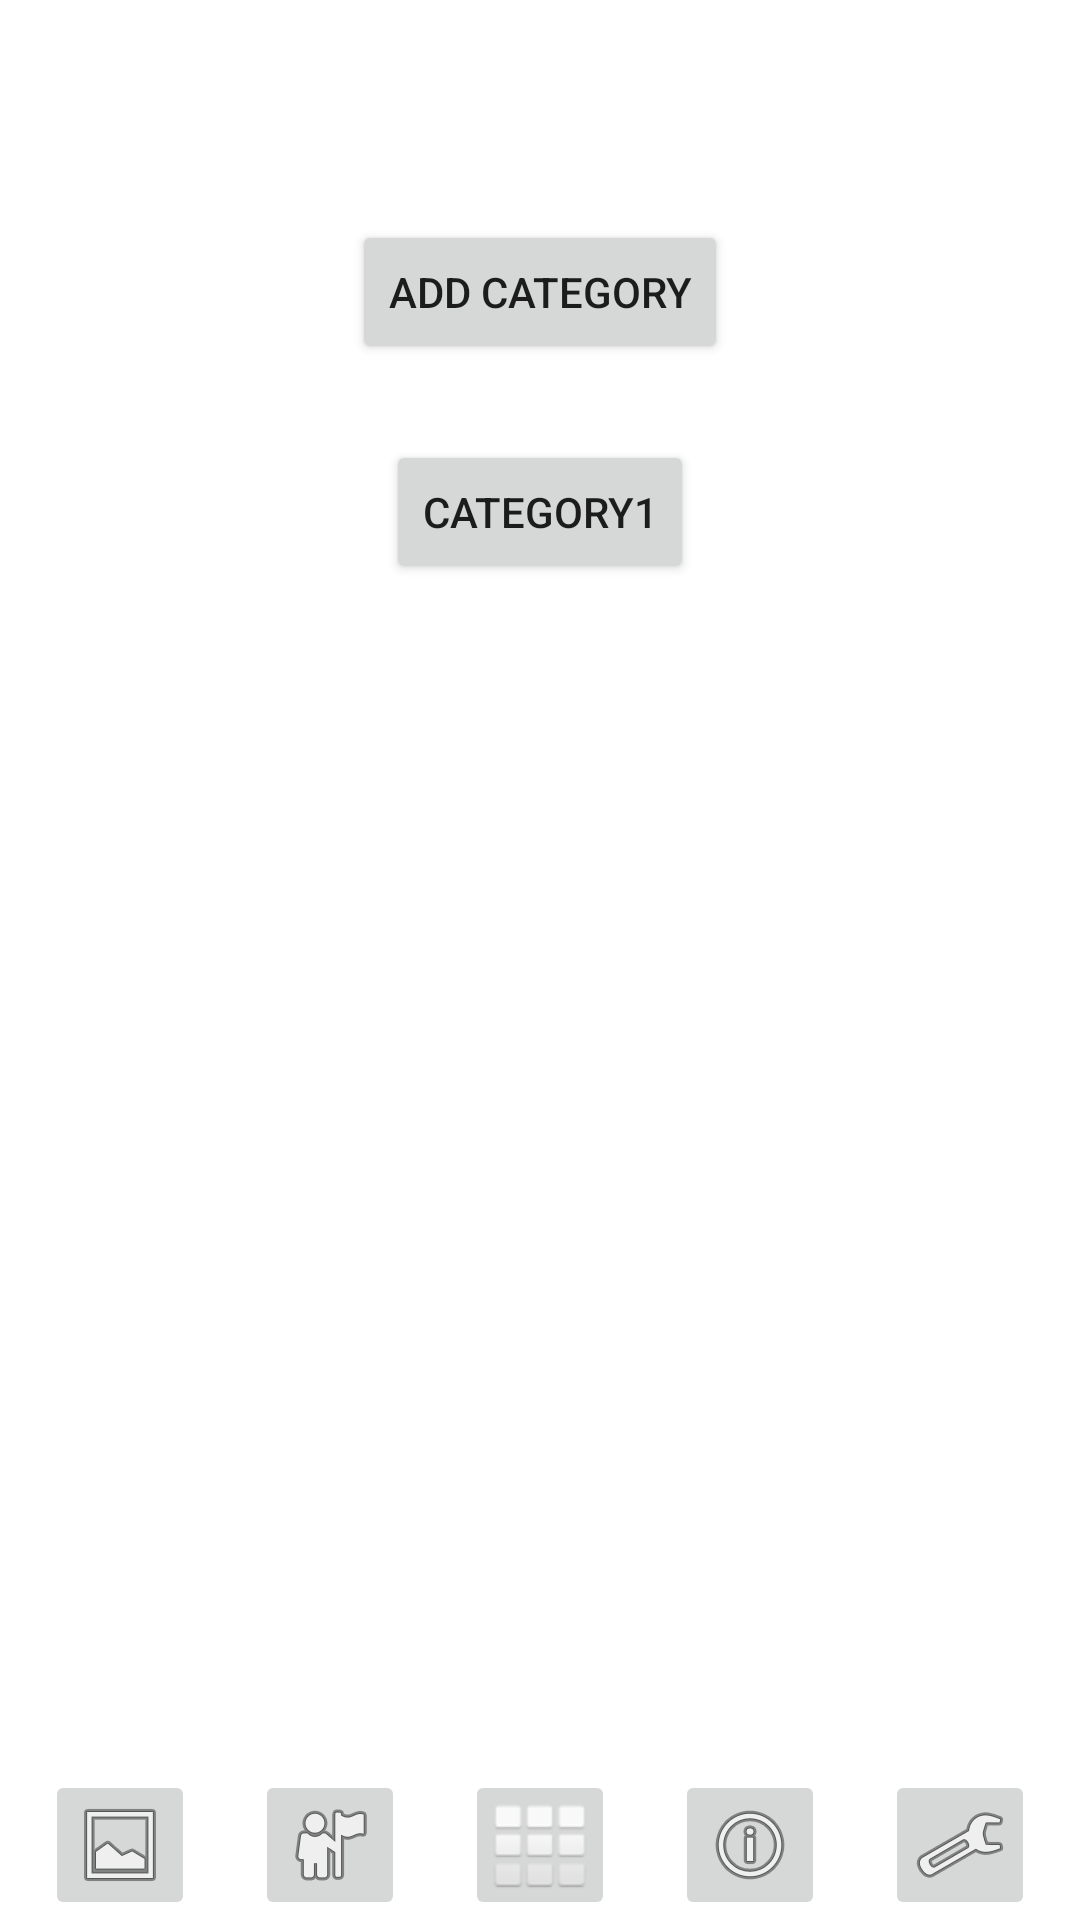

Screen size 1080×1920. Icon name, then its box in pixels as (x1, y1, x2, y2):
dialer: (477, 1788, 603, 1902)
